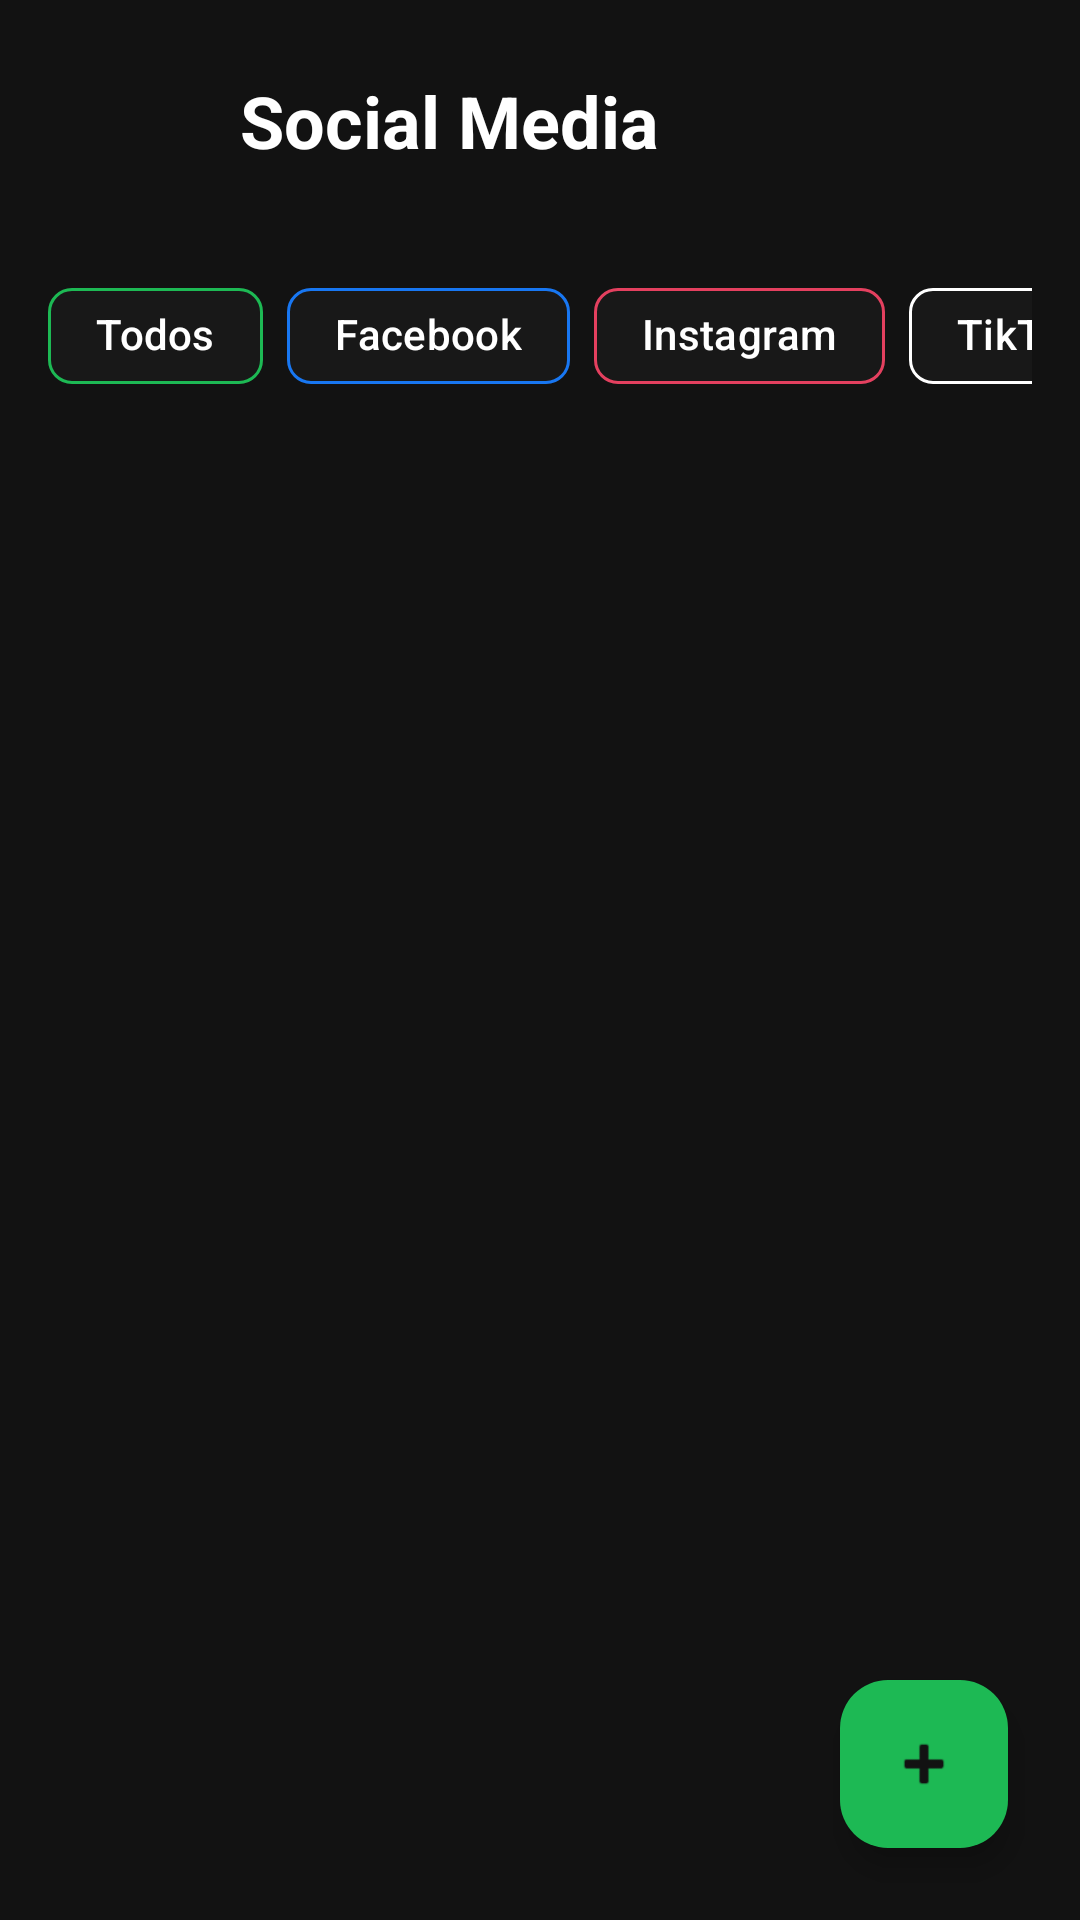

Where icons sit on this 1080x1920 app screen, as (x1, y1, x2, y2):
Agregar link: (840, 1680, 1008, 1848)
